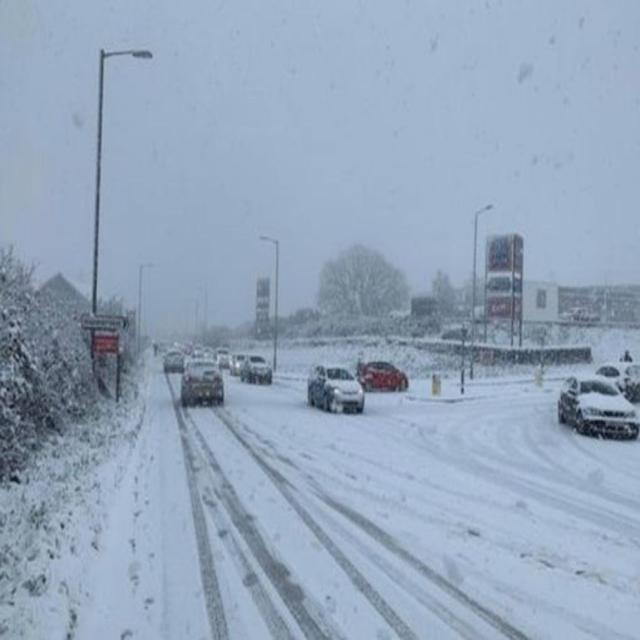car: (560, 379, 638, 440), (307, 364, 365, 414), (182, 359, 224, 407), (357, 361, 409, 392), (246, 356, 272, 386), (162, 349, 188, 374), (228, 350, 248, 374), (215, 346, 232, 365)
